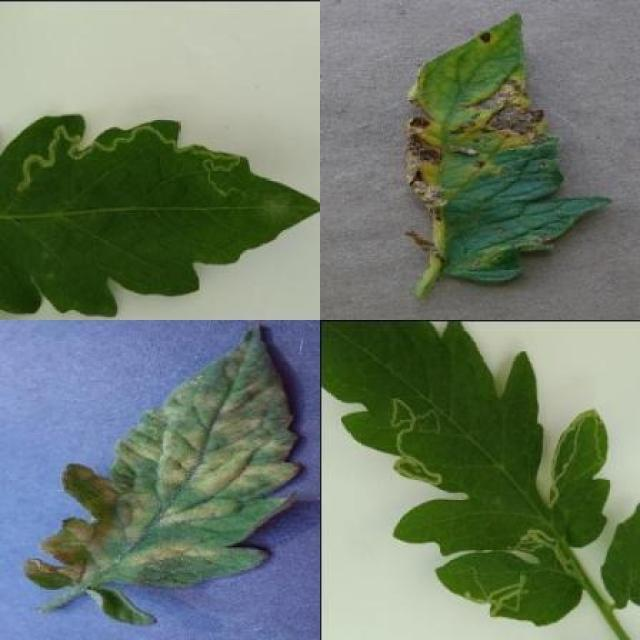Early Blight: (405, 12, 612, 282)
Leaf Miner: (320, 320, 610, 629), (0, 110, 320, 316)
Leaf Mold: (24, 320, 305, 587)
